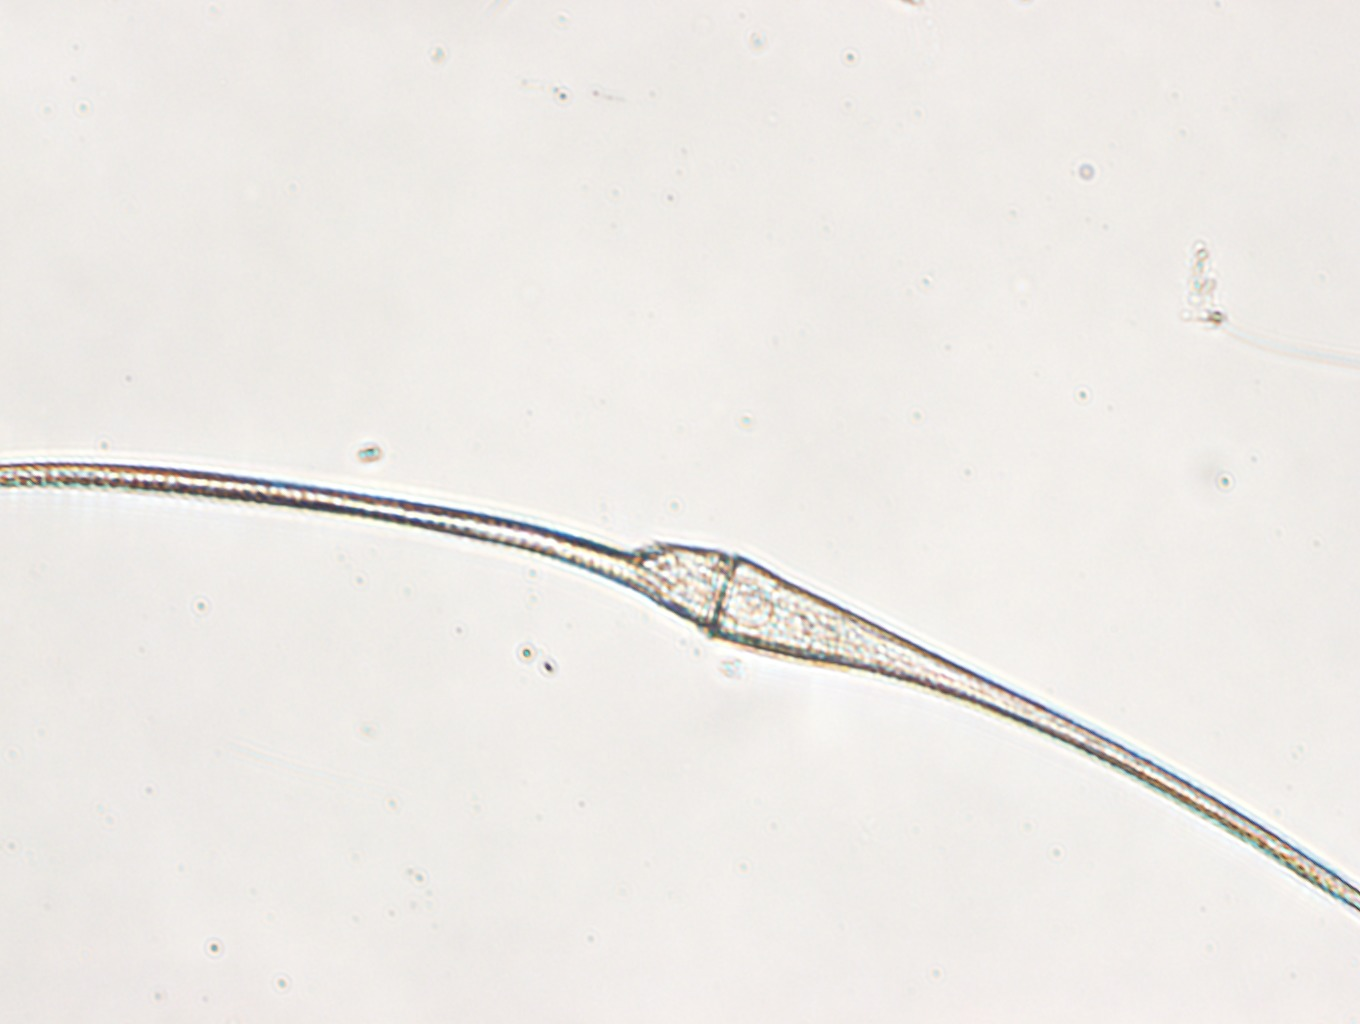ceratium fusus: (1, 460, 1360, 913)
